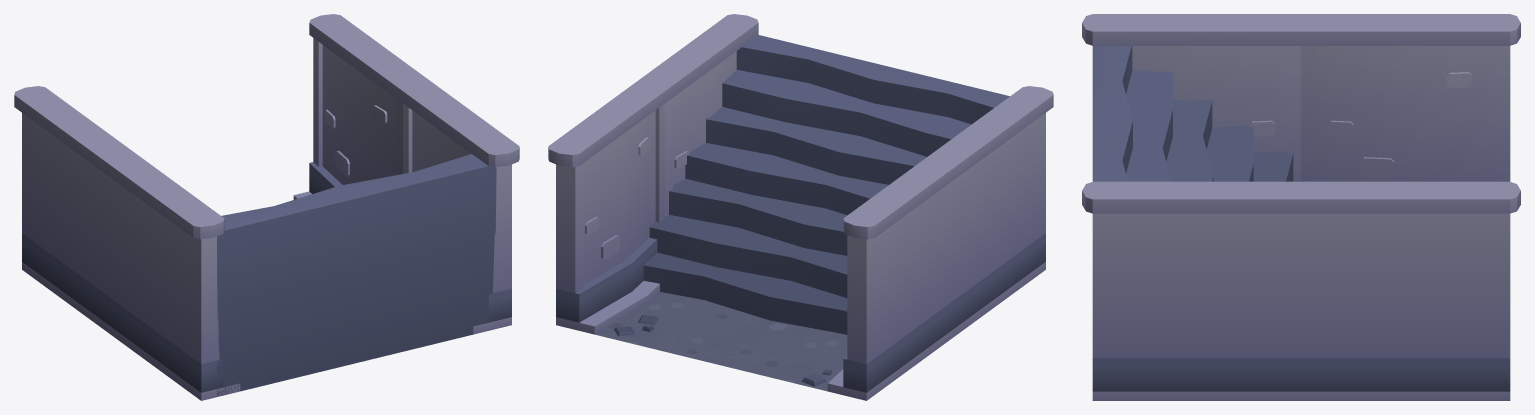
Rendered from Stairway1.fbx.
3 views of the same model, side by side, from view 1: azimuth 30°, elevation 25°; view 2: azimuth 150°, elevation 25°; view 3: azimuth 270°, elevation 25° (orthographic). The views are drawn at different scales.
Parts seen in each view (by area): view 1: stairs-wide.002; view 2: stairs-wide.002; view 3: stairs-wide.002.
Part boxes in pixels (left/top/right/bottom): stairs-wide.002: left=14, top=14, right=519, bottom=400; stairs-wide.002: left=548, top=14, right=1053, bottom=400; stairs-wide.002: left=1082, top=14, right=1520, bottom=400.
Bounding box in the file's own units: 336 × 174 × 336.
